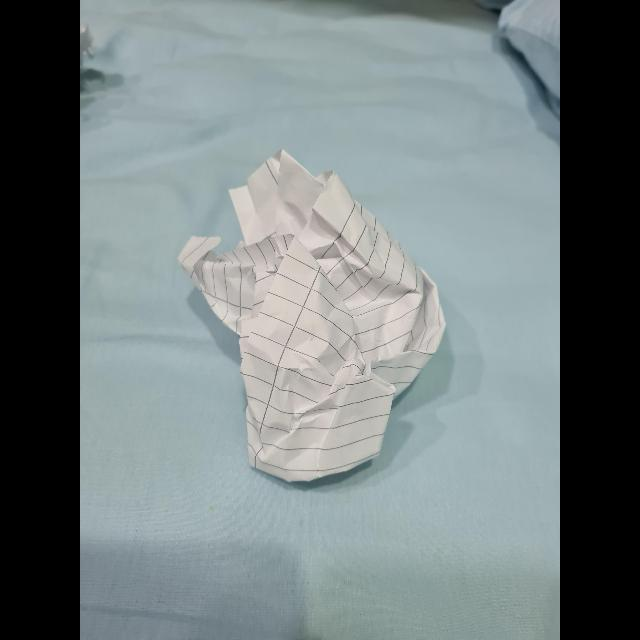scrap_paper: (181, 150, 447, 478)
